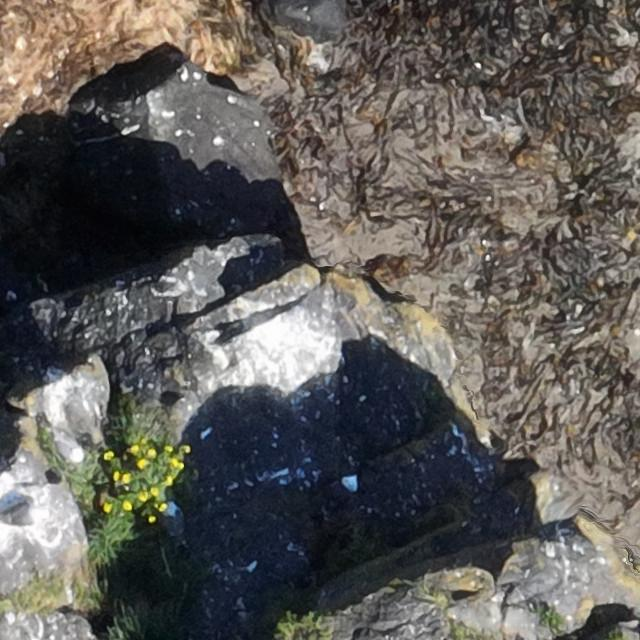umineko: (55, 429, 85, 464), (326, 474, 358, 498), (164, 504, 182, 537)
